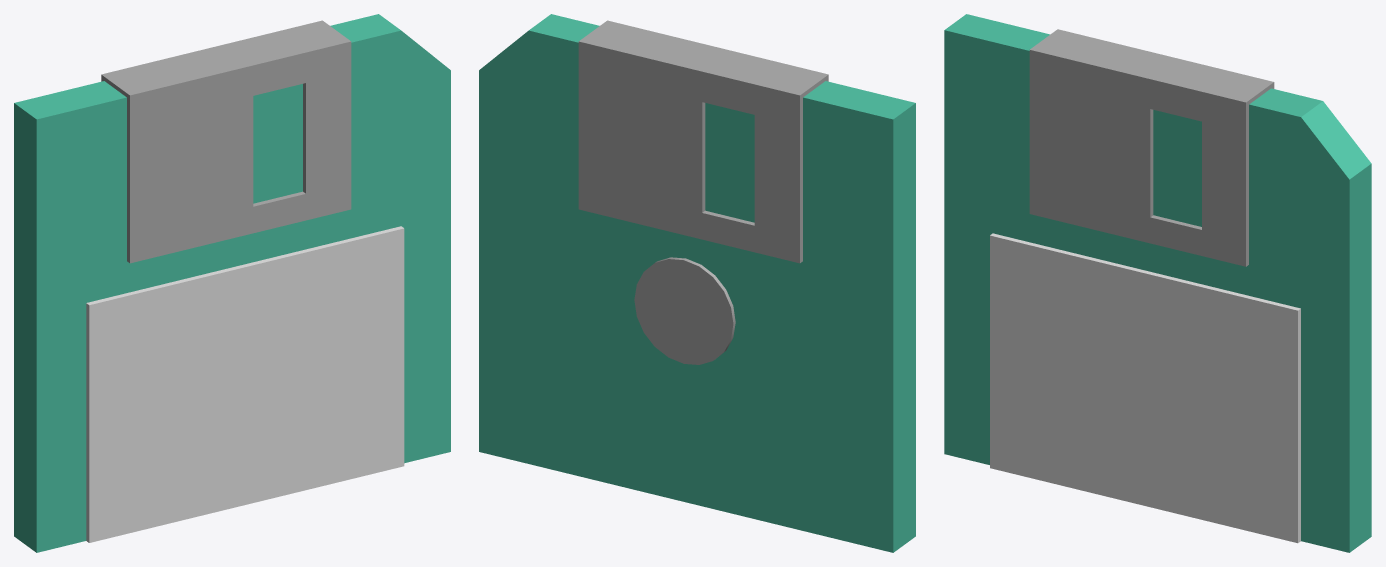
File: floppy.fbx
3 renders of one model, left to right at view 1: azimuth 30°, elevation 25°; view 2: azimuth 150°, elevation 25°; view 3: azimuth 330°, elevation 25°, orthographic. The views are drawn at different scales.
Visible parts, largest first — view 1: pCube3; view 2: pCube3, pCylinder1; view 3: pCube3.
Part boxes in pixels (bbox=[...]): pCube3: bbox=[14, 14, 450, 552]; pCube3: bbox=[479, 14, 915, 552]; pCylinder1: bbox=[634, 257, 735, 364]; pCube3: bbox=[944, 14, 1371, 552].
Size of the model in its own units: 1 by 1.01 by 0.1201.
